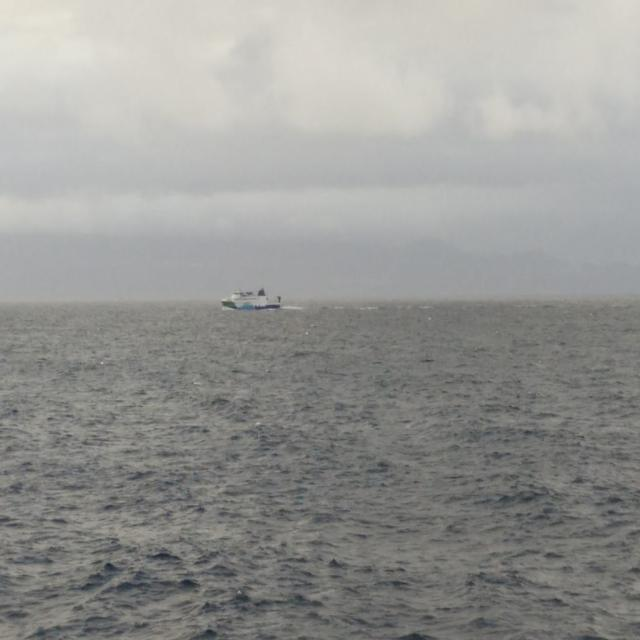houseboat: (221, 284, 286, 312)
